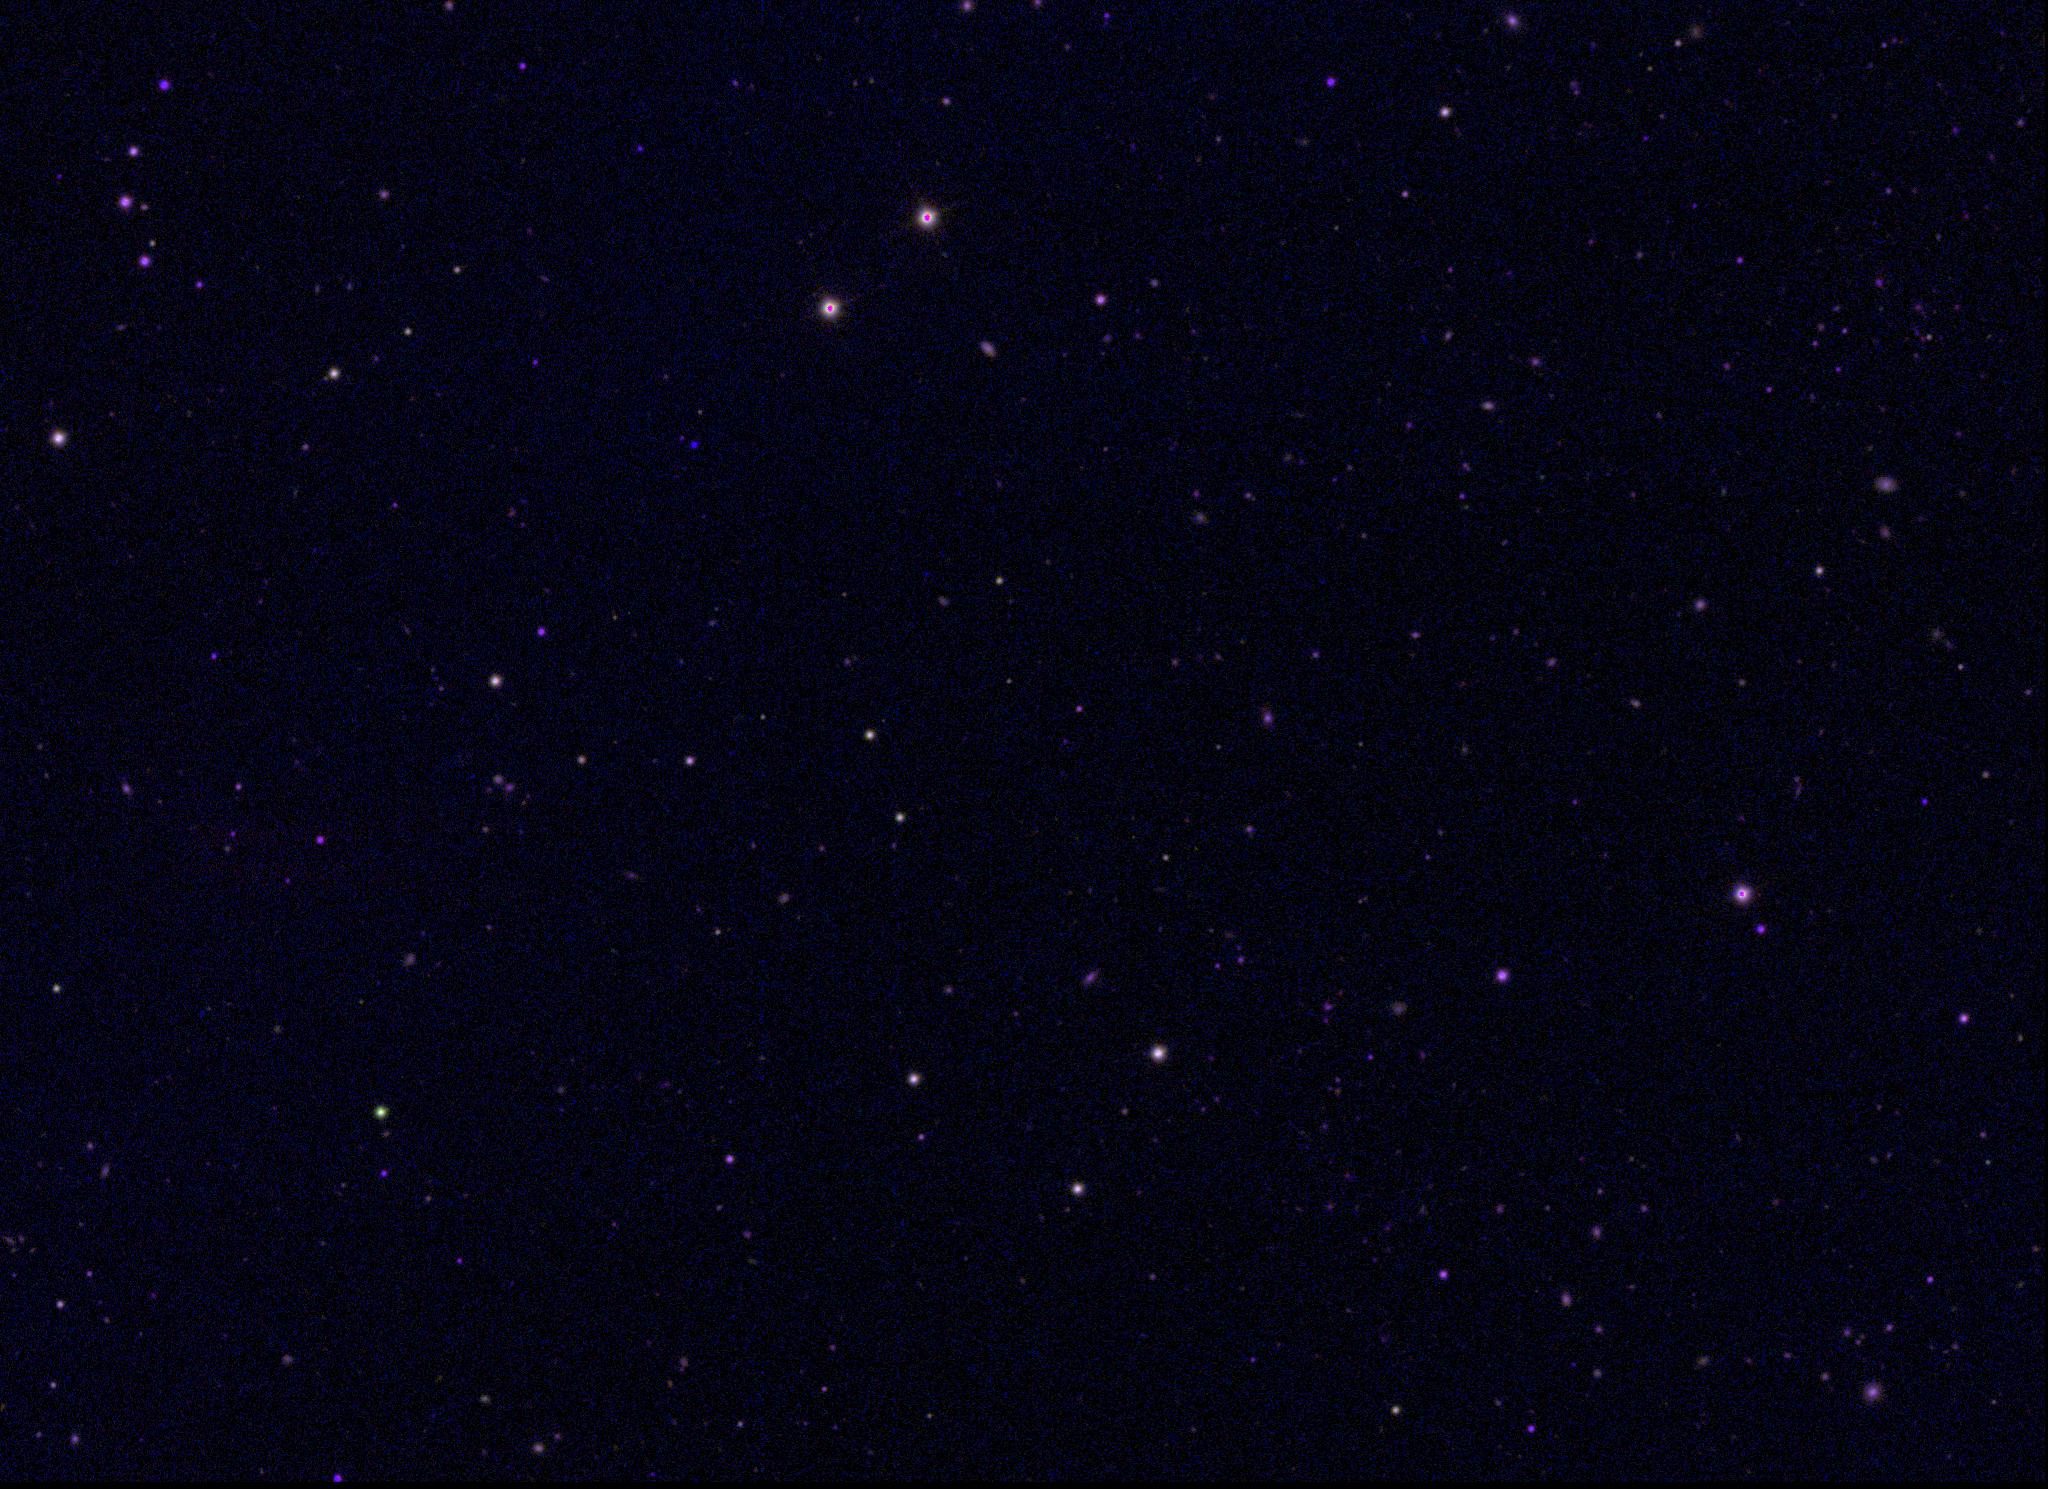L: (688, 436, 701, 450)
